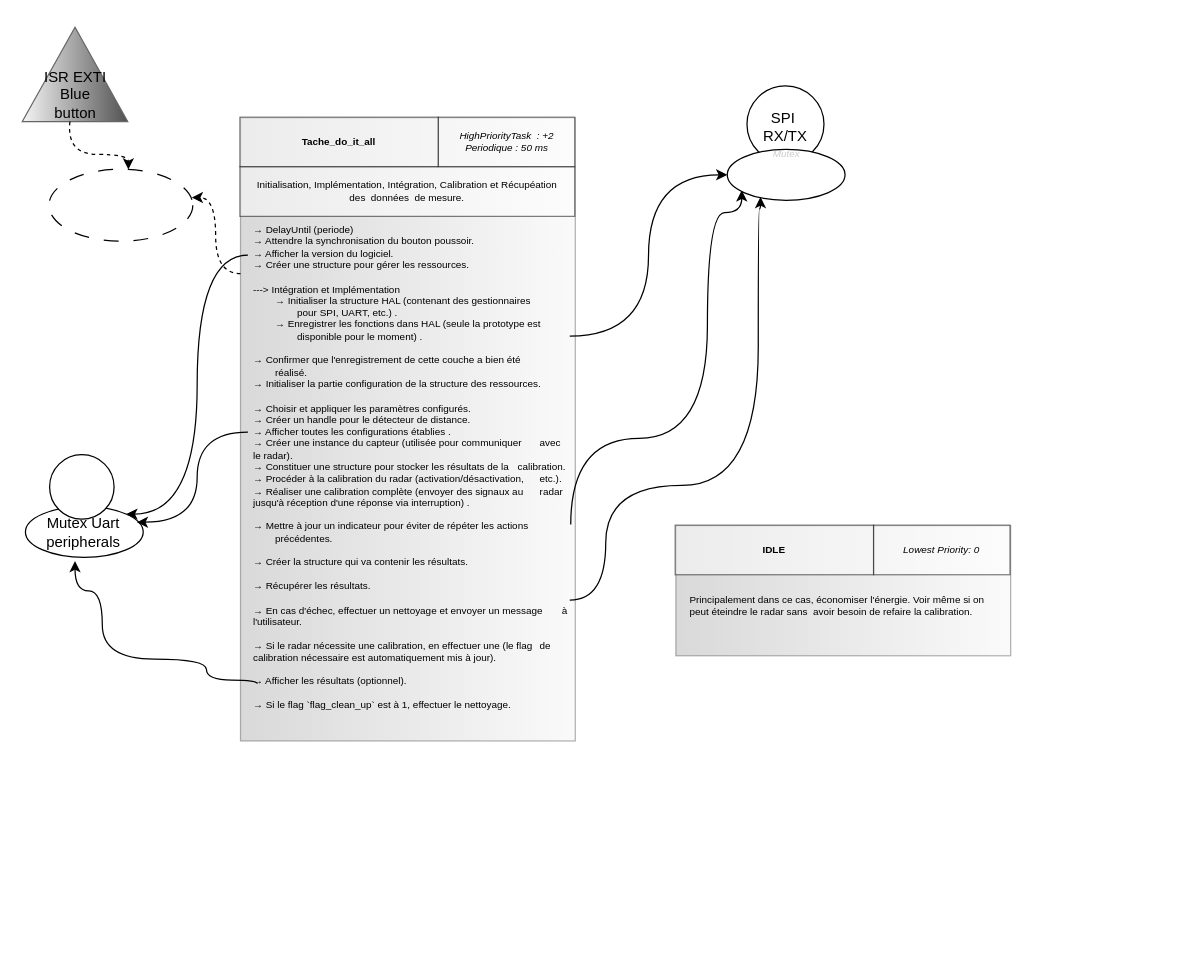
This 1203x980 diagram has some shape labels left out. The box of each missing label's shape, as (x1, y1, x2, y2) in pixels:
Mutex SPI peripherals: (726, 148, 845, 200)
Sémaphore Sync avec Tach_Init: (48, 168, 193, 241)
UART TX: (48, 453, 114, 519)
